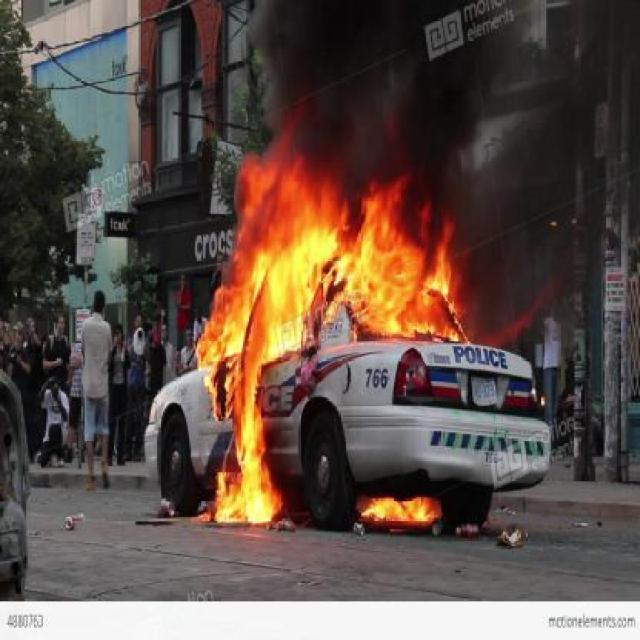Fire: (198, 146, 474, 357), (200, 359, 282, 526), (362, 490, 438, 528)
Smoke: (250, 0, 430, 143)
